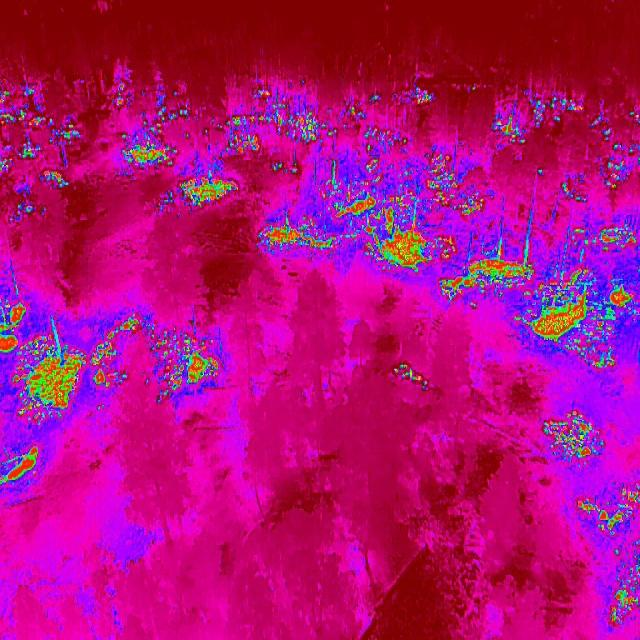fire: (318, 150, 538, 310), (0, 276, 142, 492), (0, 75, 83, 227), (526, 270, 640, 378), (215, 78, 336, 170), (106, 70, 202, 182), (577, 477, 640, 640), (141, 316, 240, 414), (535, 401, 611, 470), (559, 210, 640, 268), (258, 217, 342, 266), (341, 101, 416, 153), (166, 164, 238, 214), (598, 137, 640, 202), (534, 85, 590, 129), (394, 352, 437, 398), (397, 74, 438, 114), (482, 102, 524, 140), (558, 170, 598, 208), (589, 101, 619, 145), (627, 108, 640, 130), (463, 82, 482, 96)
